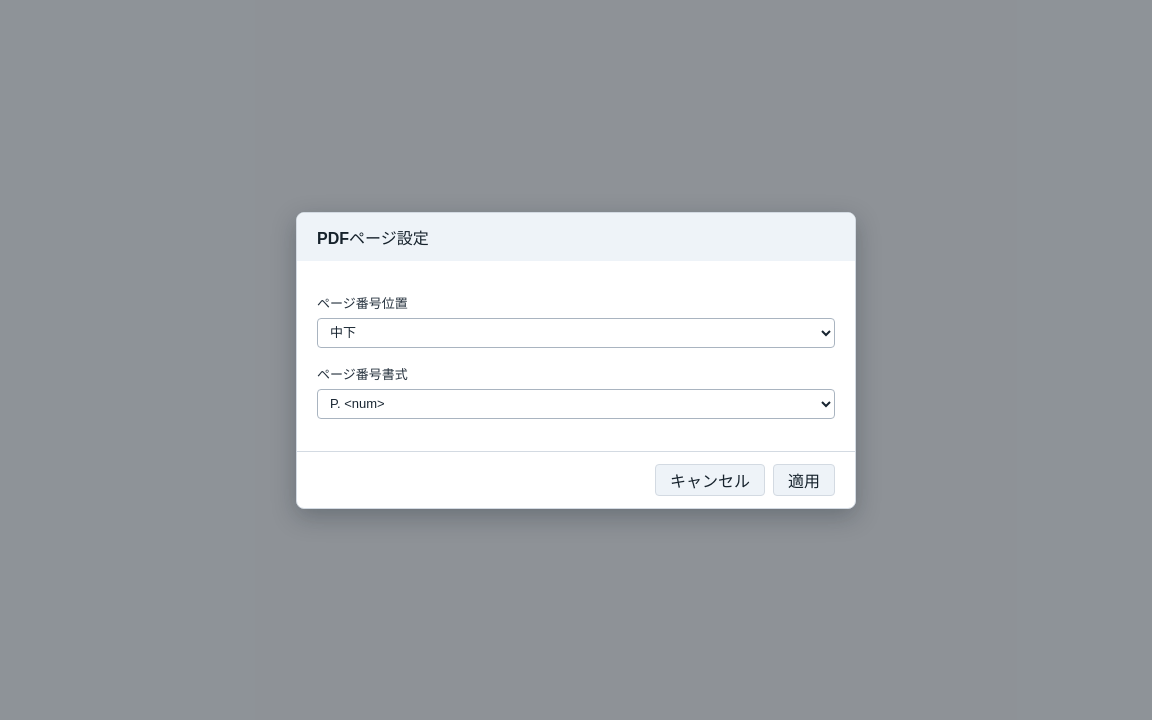
PdfPageNumberSettingsDialog › resets format to none when position is changed back to none
The image size is (1152, 720).
Expected: the dropdown labelled "ページ番号書式" shows "P. <num>", [317, 388, 835, 418]
Select "なし" in the dropdown labelled "ページ番号位置" at coordinates (576, 332), box [317, 318, 835, 348]
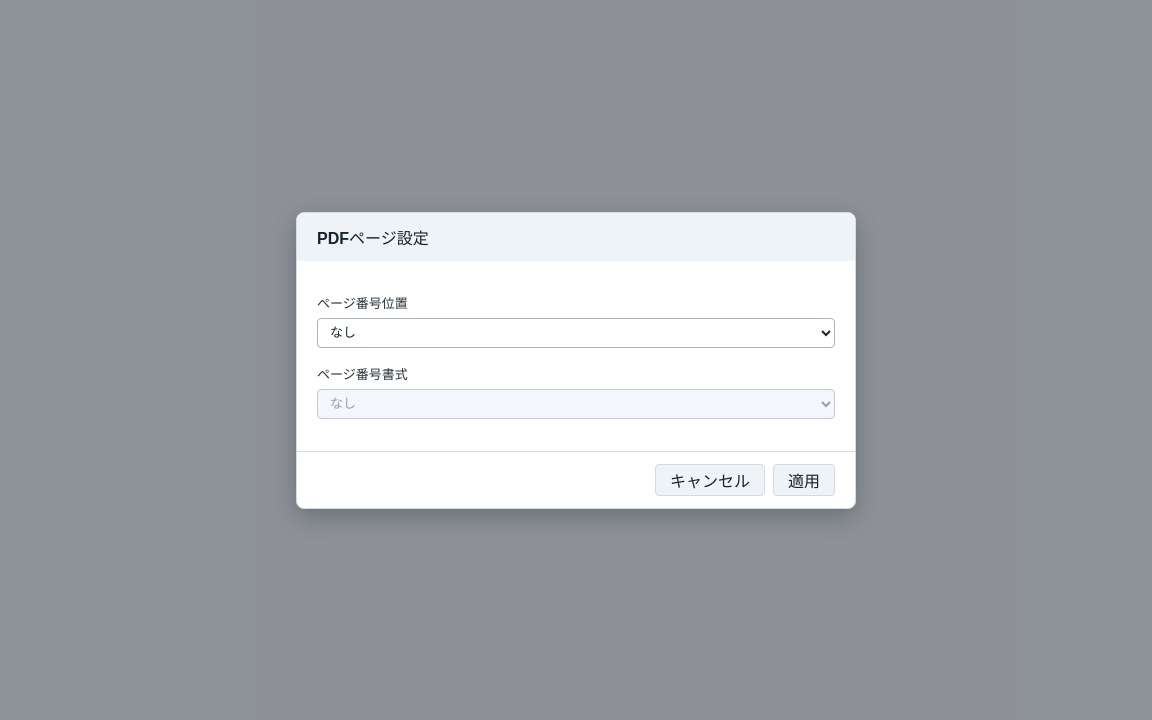
Expected: the dropdown labelled "ページ番号書式" shows "なし", [317, 388, 835, 418]
Expected: the dropdown labelled "ページ番号書式" is disabled, [317, 388, 835, 418]
